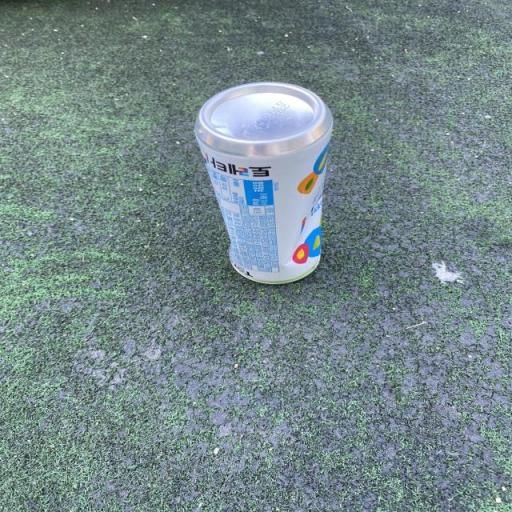metal: (146, 62, 376, 316)
